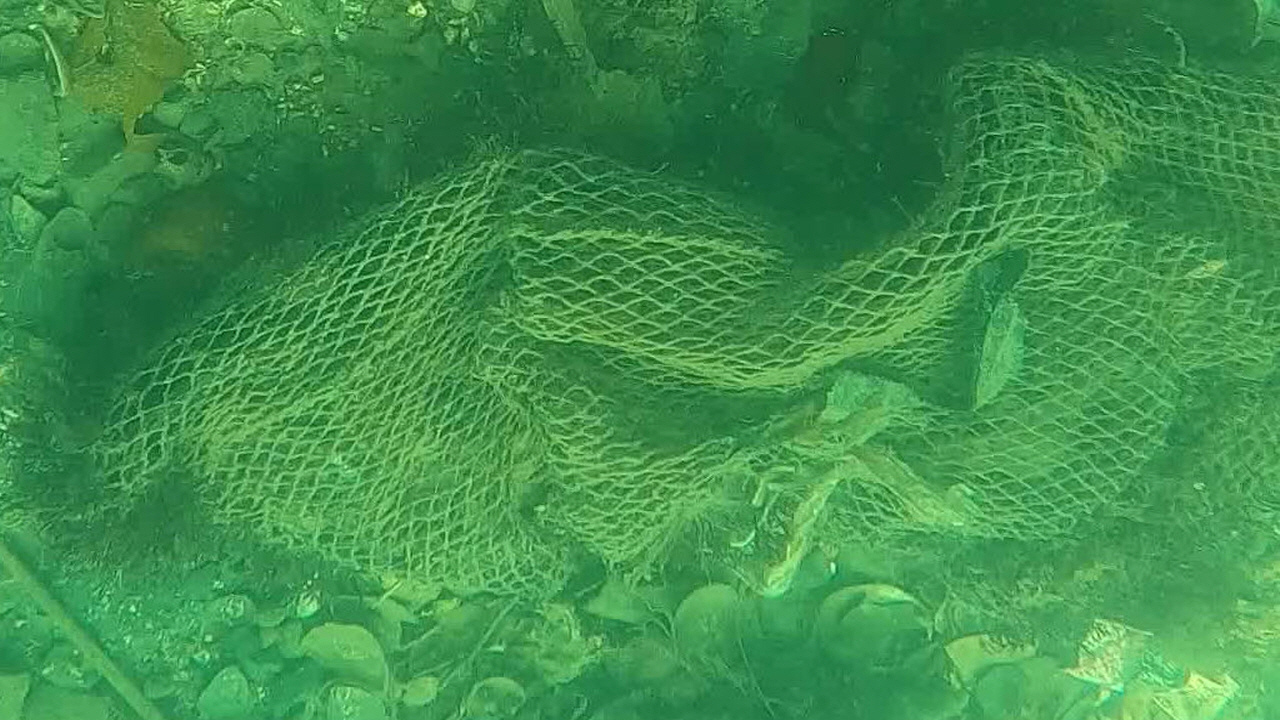fish net: (88, 47, 1280, 602)
